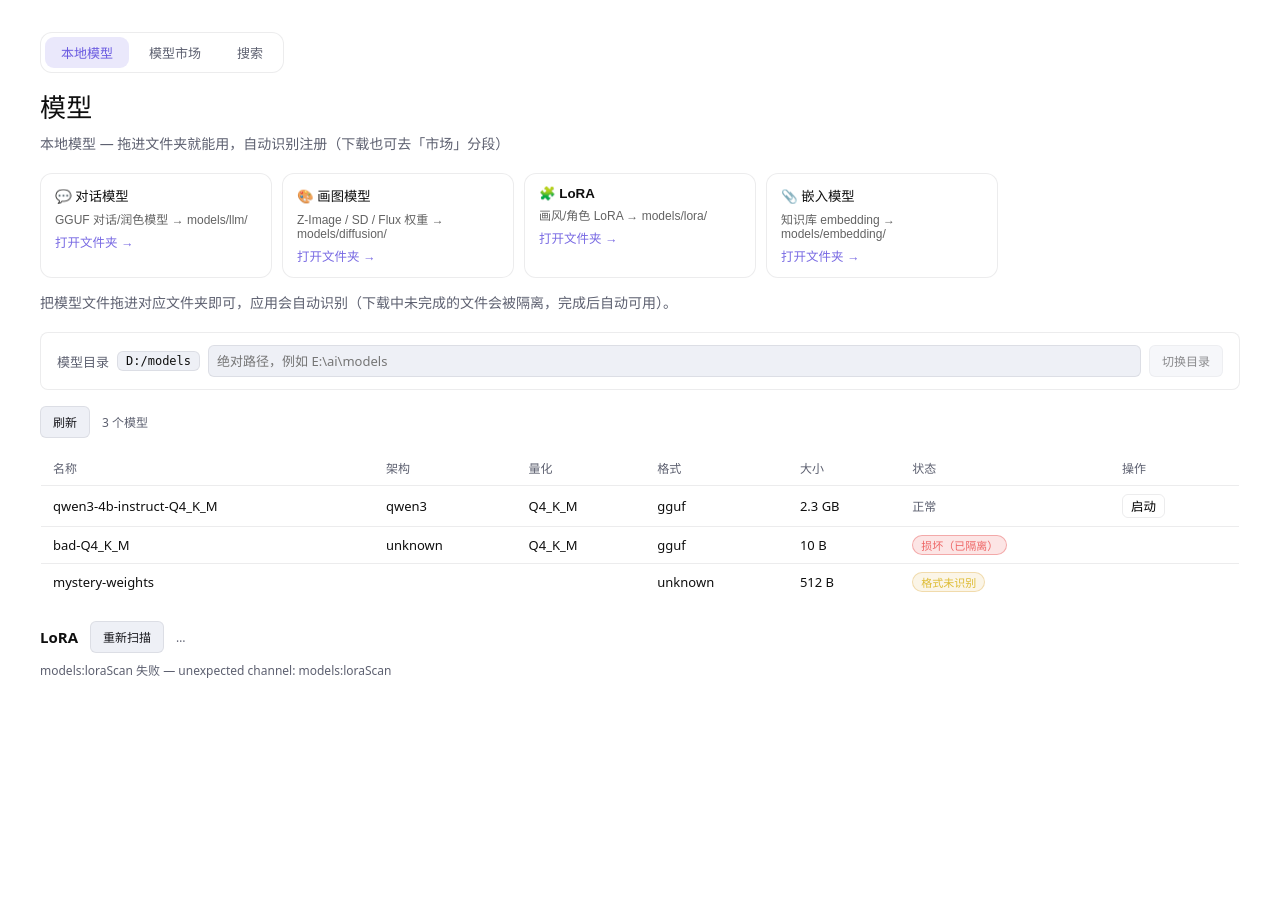
Test: ModelsPage 启动按钮（todo30b models:launch） › {ok:false,error} 应答 → 行内启动失败徽标（不崩、可再点）
Click the button with class "las-models-launch" at (1144, 506), box [1122,494,1165,518]
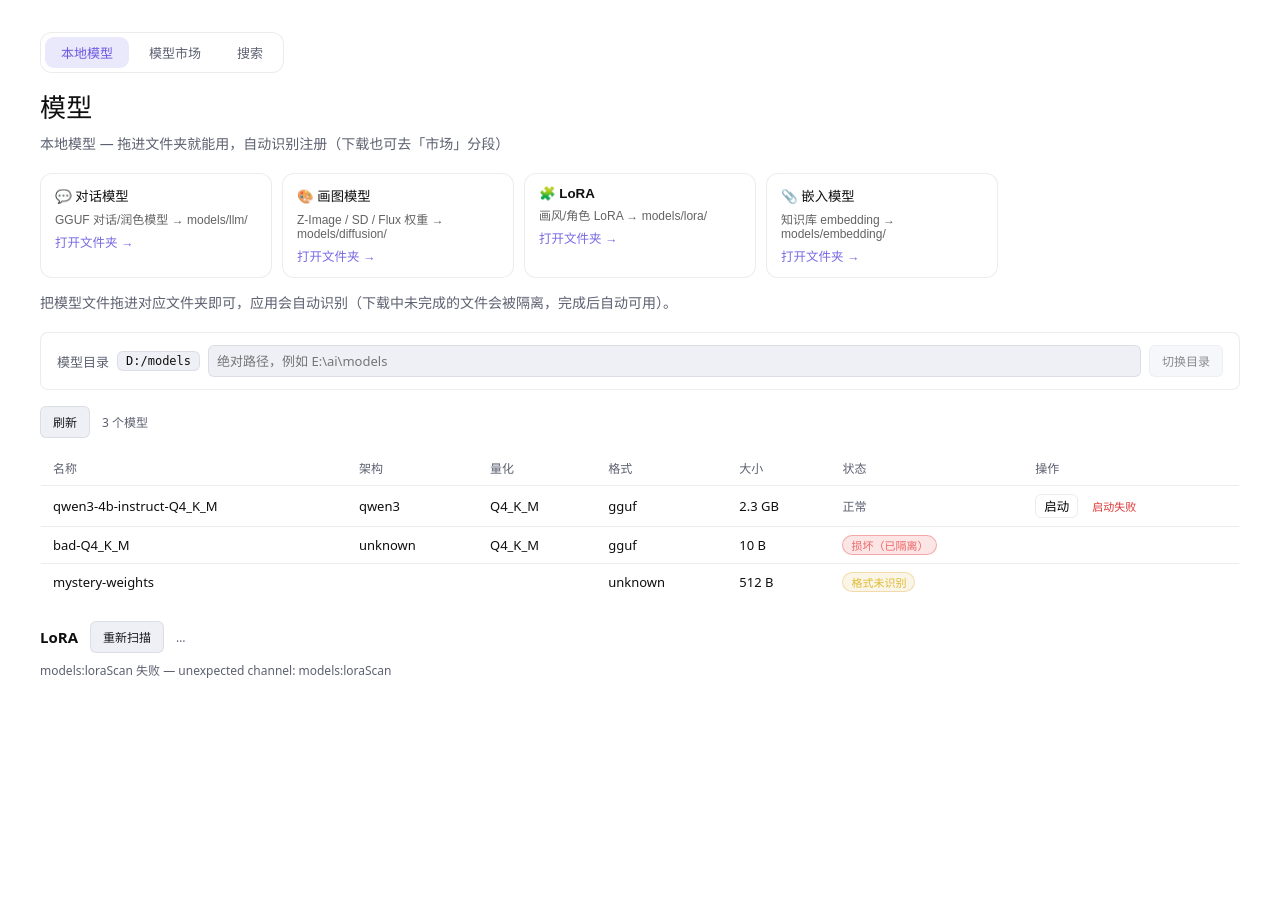
Expected: the button with class "las-models-launch" is enabled, [1035,494,1078,518]
Result: the message with class "las-models-launch-err" reads "启动失败" at [1092,499,1136,514]
